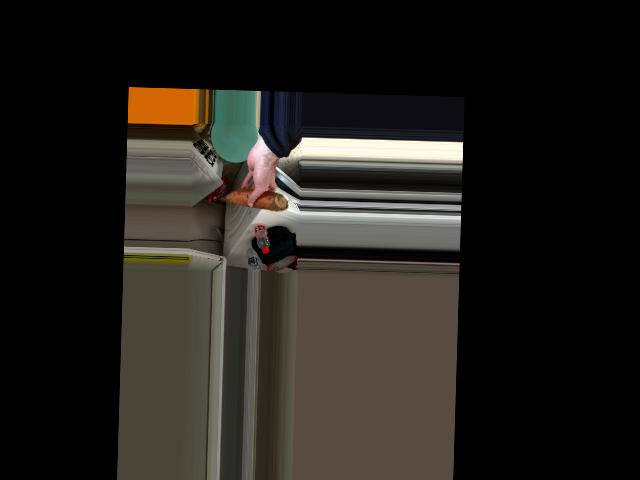sweet_potato: (226, 188, 279, 205)
